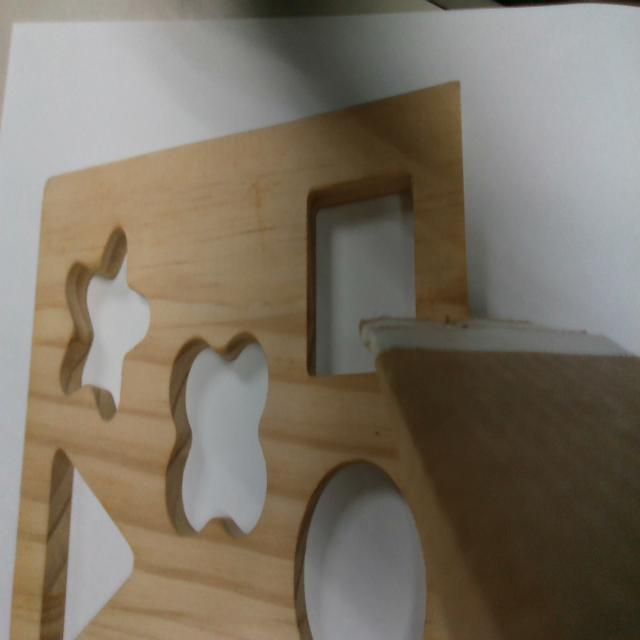circle: (294, 463, 426, 639)
flower: (162, 333, 268, 536)
square: (306, 172, 422, 374)
star: (60, 229, 151, 417)
triangle: (37, 441, 136, 639)
